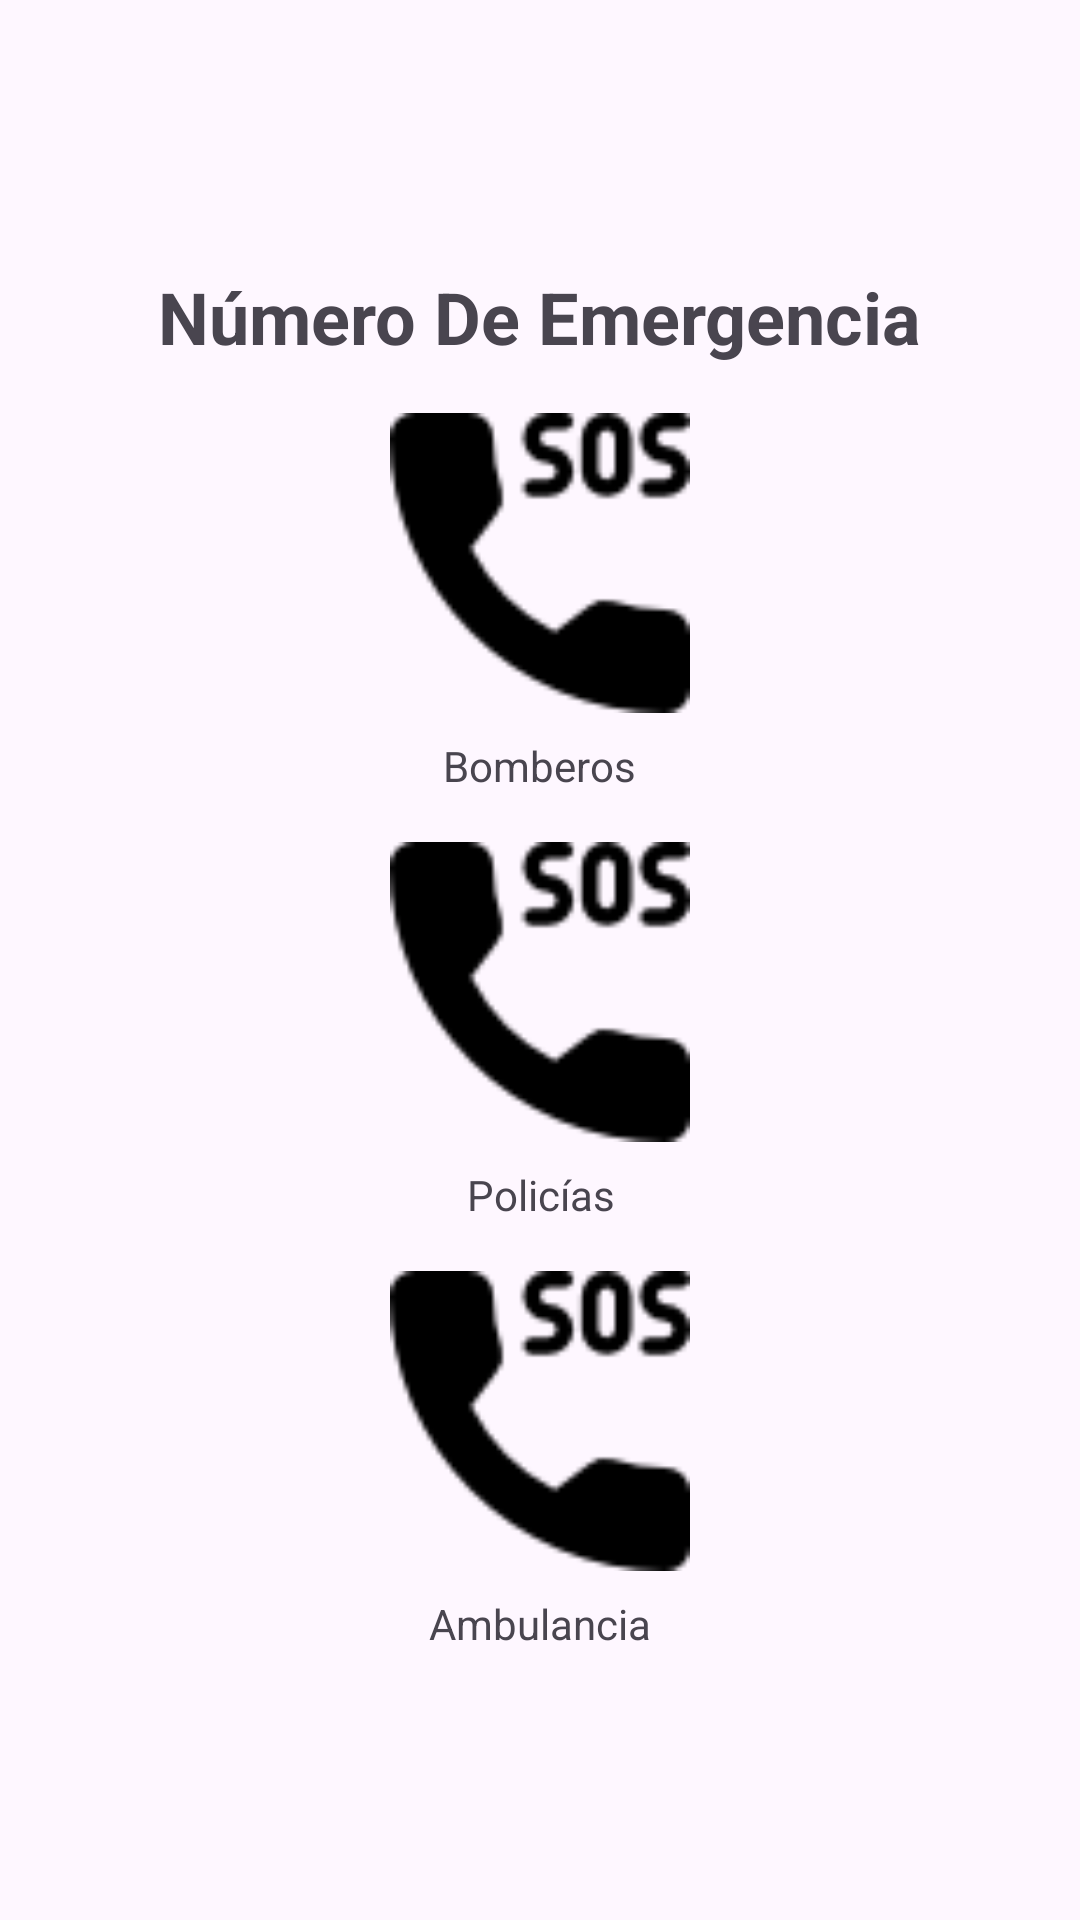

Screen size 1080px x 1920px. Icon name, then its center in pixels as [x,y]:
llamada: [540,563], [540,992], [540,1421]
